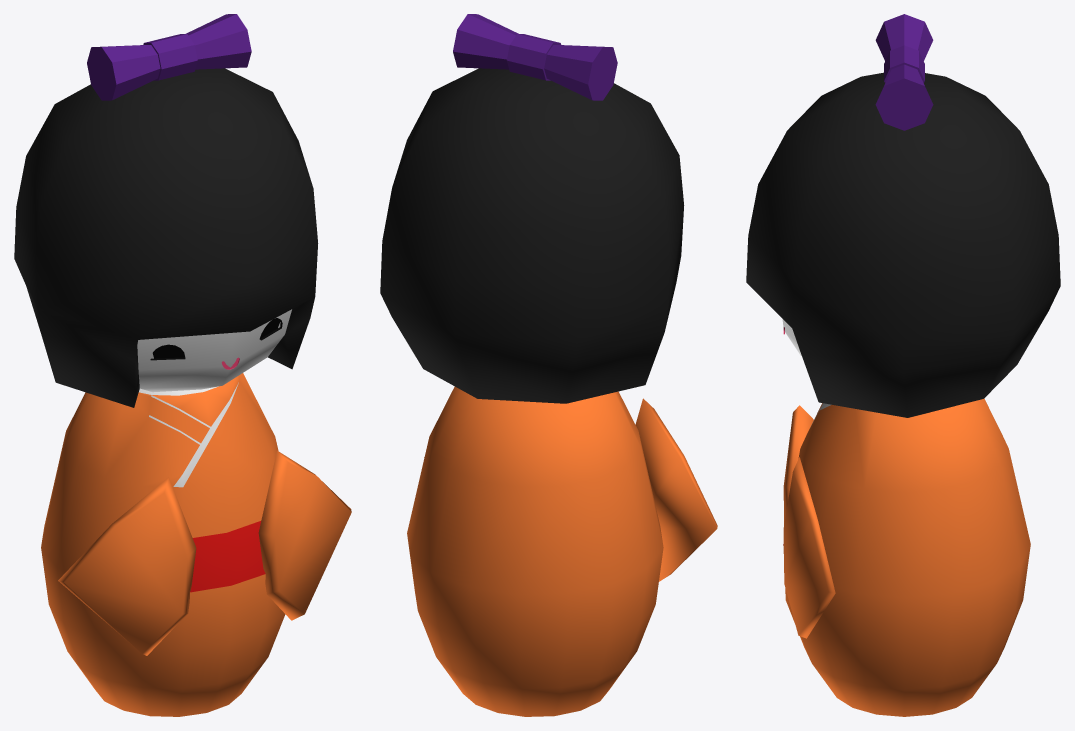
3 views of the same model, side by side, from view 1: azimuth 30°, elevation 25°; view 2: azimuth 150°, elevation 25°; view 3: azimuth 270°, elevation 25° (orthographic). The views are drawn at different scales.
Visible parts, largest first — view 1: hair_Cylinder.004, body_Cylinder.002, hands_Cube.002, bow_Cylinder.003, eyes_Circle.002; view 2: hair_Cylinder.004, body_Cylinder.002, bow_Cylinder.003, hands_Cube.002; view 3: hair_Cylinder.004, body_Cylinder.002, hands_Cube.002, bow_Cylinder.003.
Boxes of the visible parts, x1,y1,x2,y2 form: hair_Cylinder.004: (14,68,318,407); body_Cylinder.002: (41,309,291,716); hands_Cube.002: (58,450,351,655); bow_Cylinder.003: (87,14,251,100); eyes_Circle.002: (150,318,282,360); hair_Cylinder.004: (380,68,684,403); body_Cylinder.002: (407,386,663,716); bow_Cylinder.003: (453,14,617,100); hands_Cube.002: (424,398,717,581); hair_Cylinder.004: (746,72,1060,417); body_Cylinder.002: (782,319,1030,716); hands_Cube.002: (783,405,835,638); bow_Cylinder.003: (875,14,933,130).
Size of the model in its own units: 2.56 by 5.47 by 2.44.
